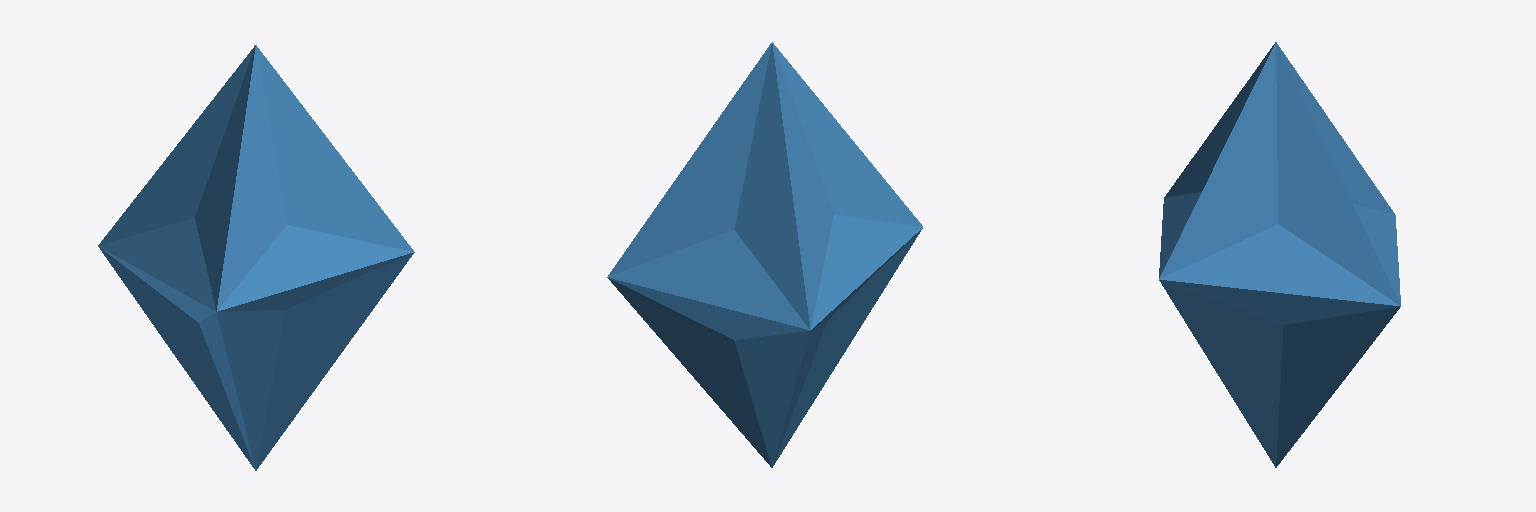
3 renders of one model, left to right at view 1: azimuth 30°, elevation 25°; view 2: azimuth 150°, elevation 25°; view 3: azimuth 270°, elevation 25°, orthographic.
Parts seen in each view (by area): view 1: Cube_Cube.003; view 2: Cube_Cube.003; view 3: Cube_Cube.003.
Part boxes in pixels (x1,y1,x2,y2): Cube_Cube.003: (98,45,414,470); Cube_Cube.003: (607,42,922,467); Cube_Cube.003: (1159,42,1400,467).
Bounding box in the file's own units: 2.46 × 5 × 2.57.
1 materials, 1 textured.